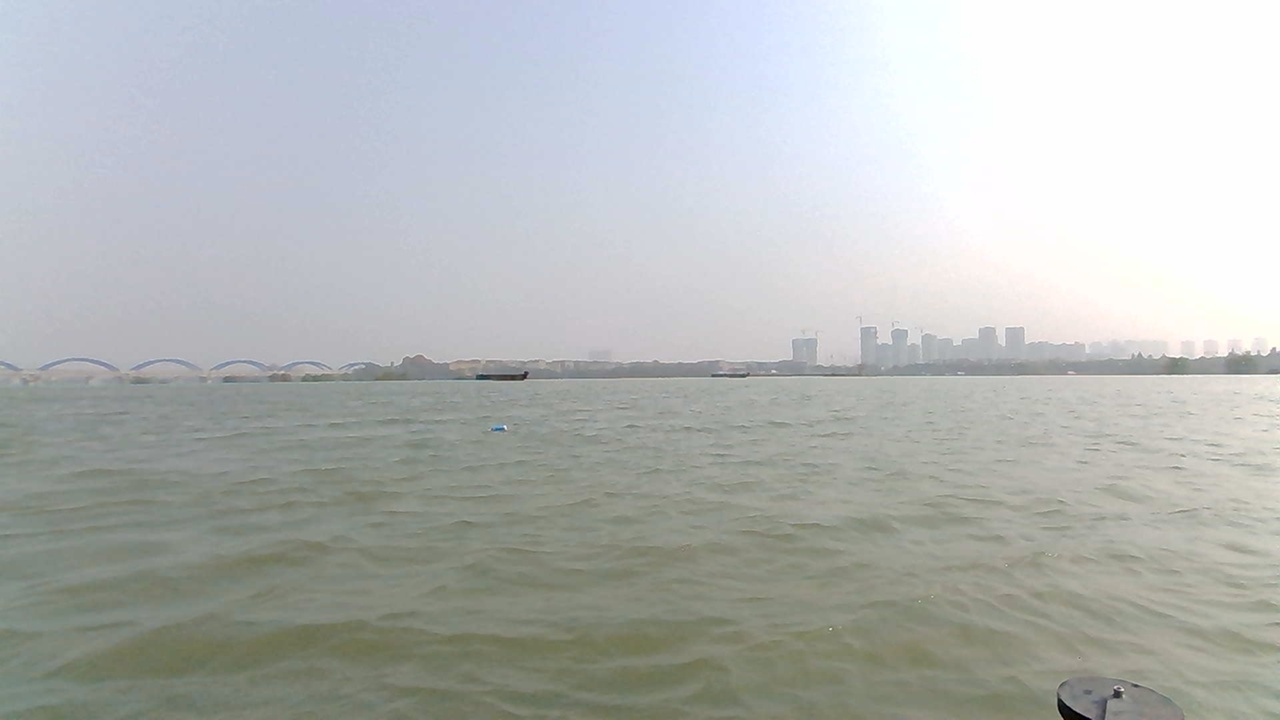bottle: (484, 421, 514, 436)
